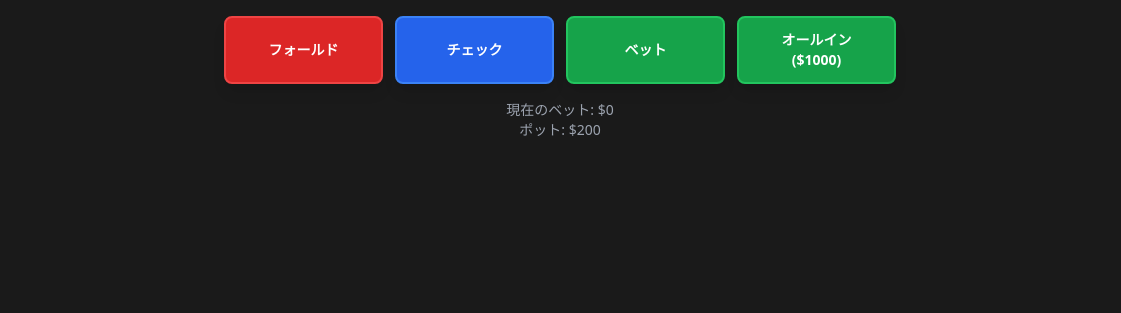
Test: ActionButtons › プリセットボタンが正しく動作する
Click the button with test id "bet-btn".
click(646, 50)  # box [566, 16, 725, 84]
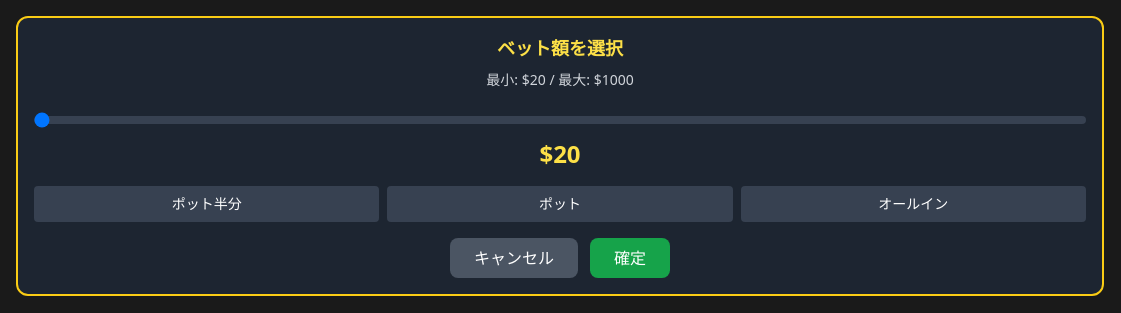
# ポット半分ボタン
Click the button with test id "half-pot-btn".
click(207, 204)  # box [34, 186, 379, 222]
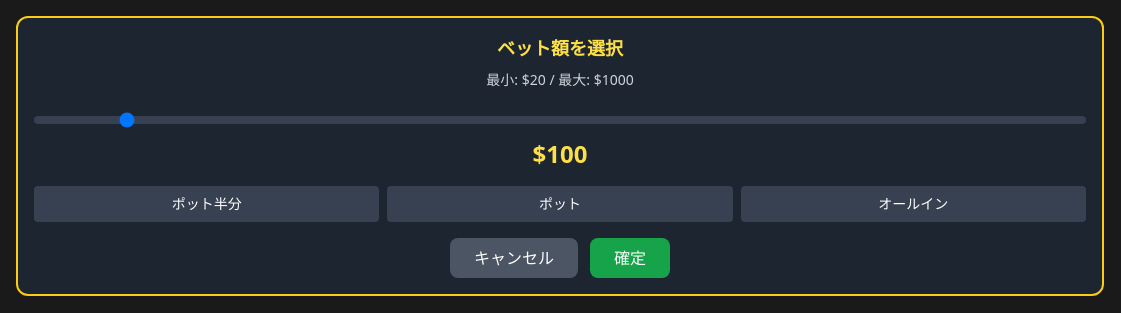
Expected: the text "$100" is shown, [532, 137, 587, 170]
Click the button with test id "pot-btn".
click(560, 204)  # box [387, 186, 733, 222]
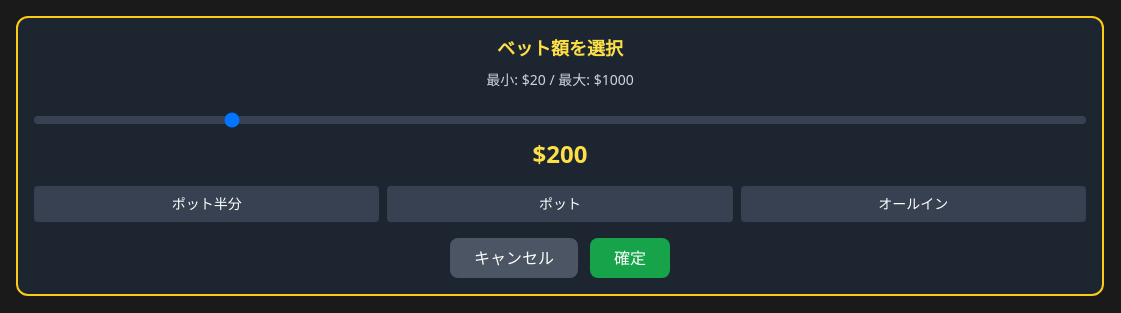
Expected: the text "$200" is shown, [532, 137, 587, 170]
# オールインボタン
Click the button with test id "all-in-btn".
click(913, 204)  # box [741, 186, 1086, 222]
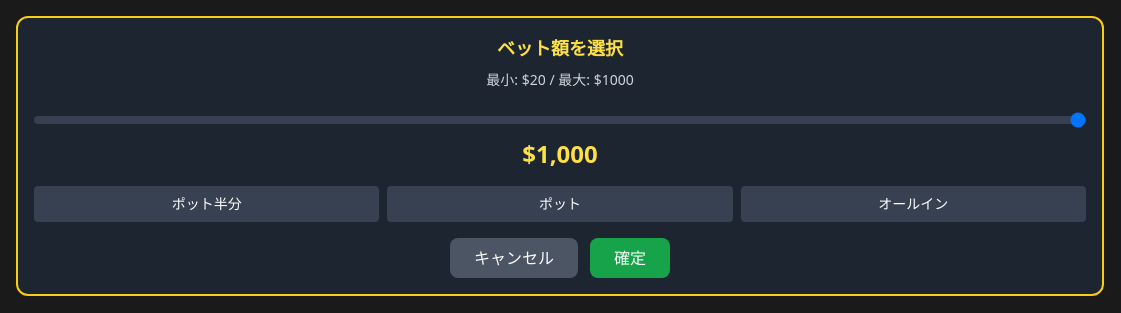
Expected: the text "$1,000" is shown, [522, 137, 598, 170]
